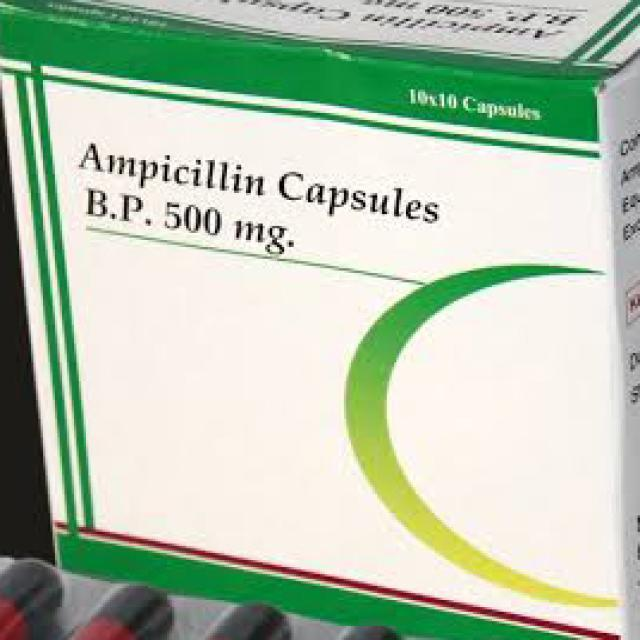drug-name: (73, 136, 272, 210)
